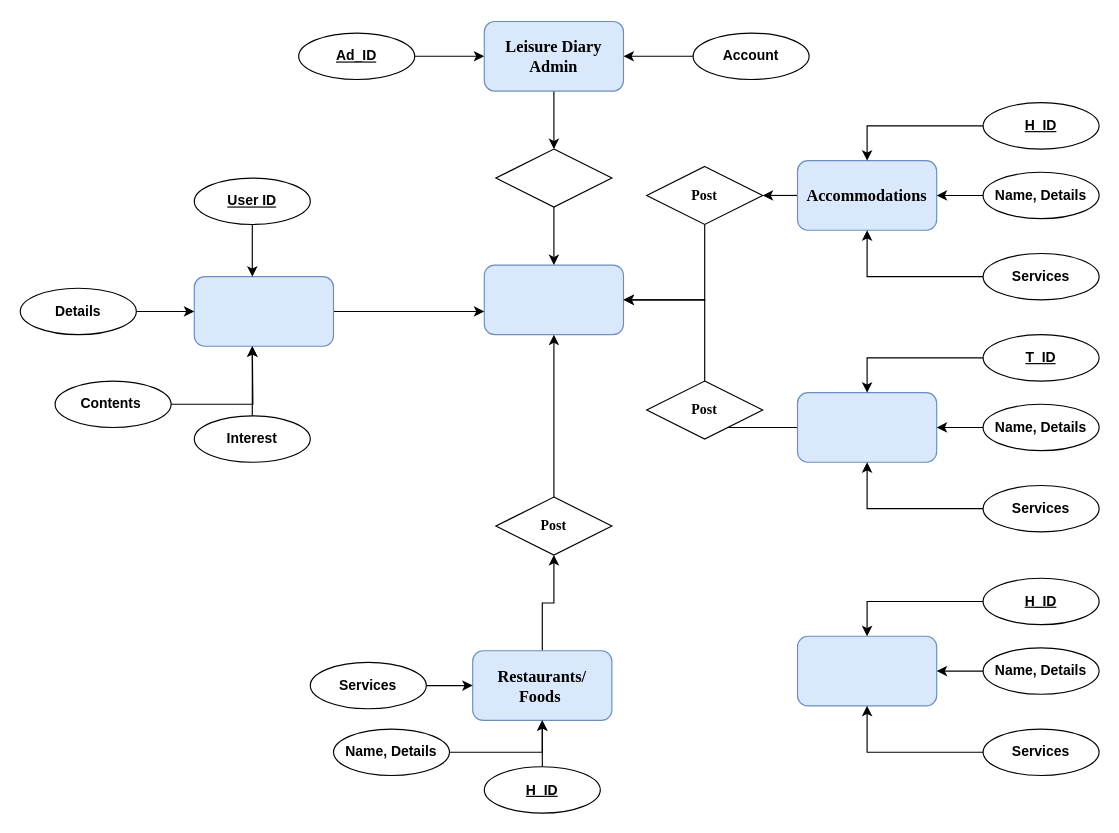
This 1119x833 diagram has some shape labels left out. The shapes that lost their labels are listed below. From the top down, each one's box as (x1, y1, x2, y2) in pixels, then its label:
(495, 148, 612, 207): Manage
(193, 276, 334, 346): User/Traveler
(483, 264, 624, 335): Leisure Diary admin dashboard
(796, 392, 937, 462): Transport providers
(796, 635, 937, 706): Leisure activity providers
